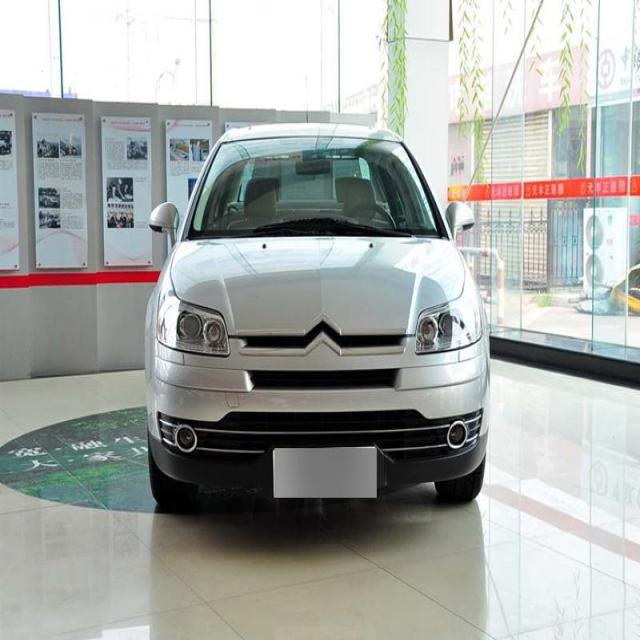front_bumper: (145, 372, 491, 487)
front_glass: (186, 136, 446, 242)
front_left_side_light: (412, 294, 482, 356)
front_left_side_mirror: (446, 201, 478, 236)
front_right_side_light: (156, 292, 232, 359)
front_right_side_mirror: (147, 201, 181, 250)
